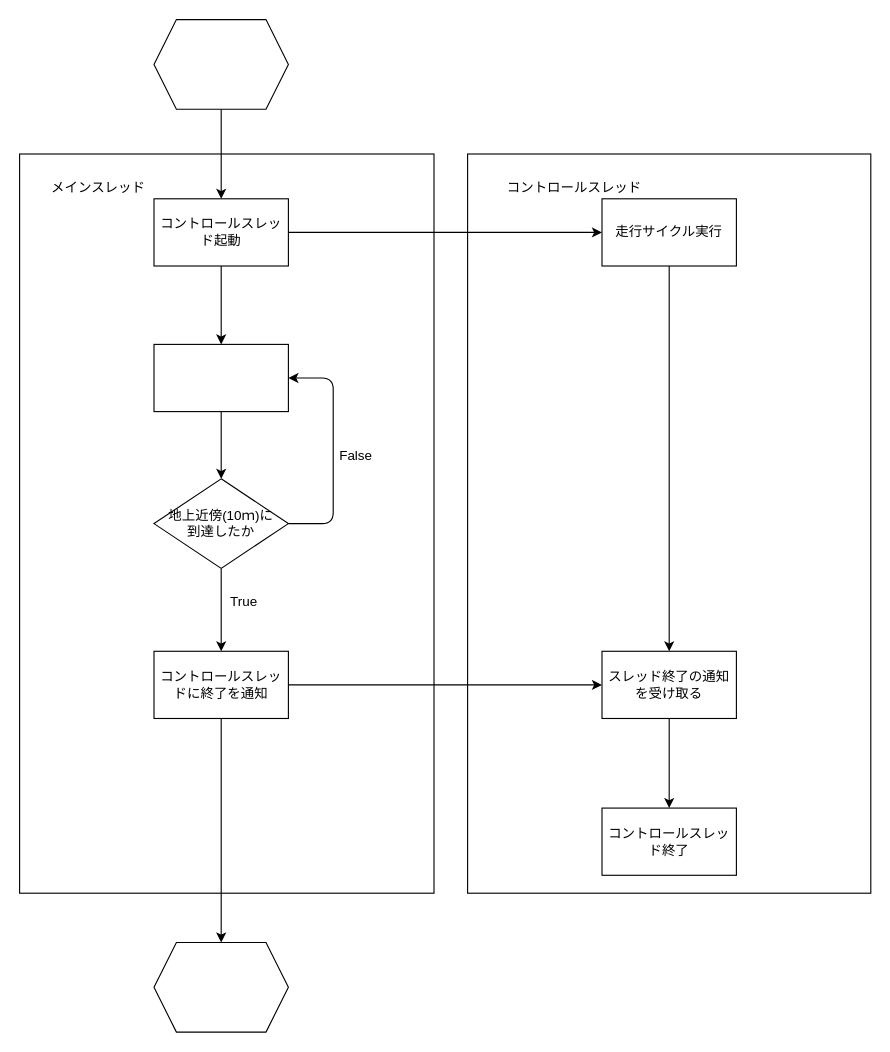
Image size: 890x1052. Some labels were removed from this diagram. Here are the shapes that lost their labels. From the top down, the centre of each, then its label:
the point at 220,63: パラ分離ノード
the point at 220,377: 高度取得
the point at 220,986: 子機分離ノードへ
